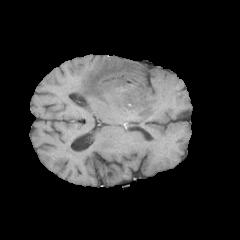glioma: (55, 59, 178, 117)
